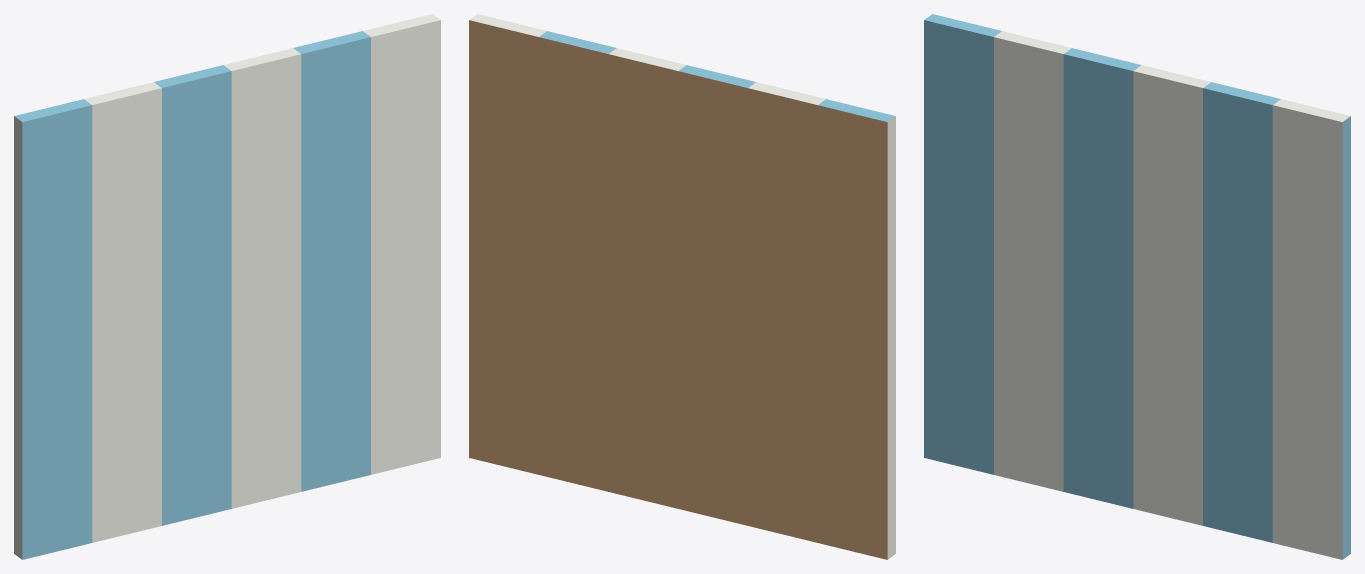
The model's file is WallStripes.fbx.
3 renders of one model, left to right at view 1: azimuth 30°, elevation 25°; view 2: azimuth 150°, elevation 25°; view 3: azimuth 330°, elevation 25°, orthographic.
Visible parts, largest first — view 1: Cube; view 2: Cube; view 3: Cube.
Boxes of the visible parts, box(x1,y1,x2,y2) form: Cube: box(14, 14, 440, 559); Cube: box(469, 14, 895, 559); Cube: box(924, 14, 1350, 559).
Bounding box in the file's own units: 2900 × 100 × 2900.
Materials: 1 (1 with a texture image).
